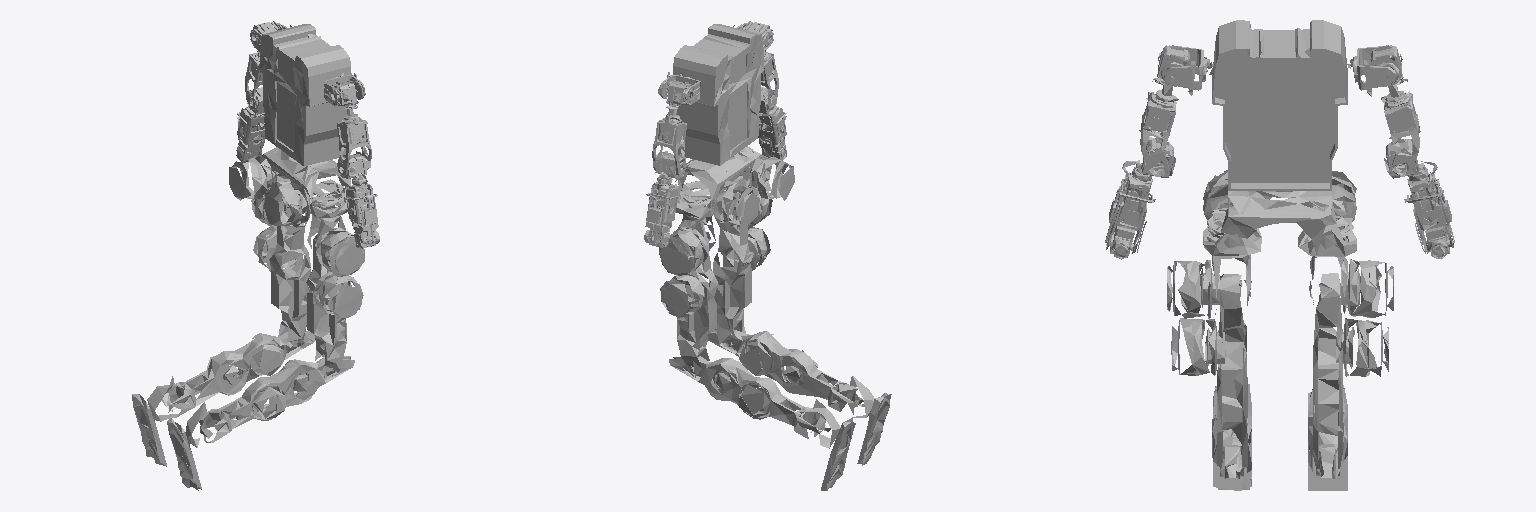
robot.urdf — urdf_a1:
<?xml version="1.0" encoding="utf-8"?>
<!-- This URDF was automatically created by SolidWorks to URDF Exporter! Originally created by [author] ([email redacted]) 
     Commit Version: 1.6.0-1-g15f4949  Build Version: 1.6.7594.29634
     For more information, please see http://wiki.ros.org/sw_urdf_exporter -->
<robot
  name="urdf_a1">
    <link name="world"/>
  <link
    name="base_link">
    <inertial>
      <origin
        xyz="-0.039135 -0.0051259 -0.066441"
        rpy="0 0 0" />
      <mass
        value="20.691" />
      <inertia
        ixx="0.61084776"
        ixy="0.00224110"
        ixz="-0.08596648"
        iyy="0.52661875"
        iyz="0.0088812"
        izz="0.20287544" />
    </inertial>
    <visual>
      <origin
        xyz="0 0 0"
        rpy="0 0 0" />
      <geometry>
        <mesh
          filename="package://urdf_a1/meshes/base_link.STL" />
      </geometry>
      <material
        name="">
        <color
          rgba="0.75294 0.75294 0.75294 1" />
      </material>
    </visual>
    <collision>
      <origin
        xyz="0 0 0"
        rpy="0 0 0" />
      <geometry>
        <mesh
          filename="package://urdf_a1/meshes/base_link.STL" />
      </geometry>
    </collision>
  </link>
  <joint name="floating_joint" type="floating"> <!--添加虚拟关节，将机器人模型连接到世界上的固定点-->
    <parent link="world"/>
    <child link="base_link"/> <!--起始位置设为(0, 0, 0)，与父链接原点重合-->
    <origin xyz="0 0 0" rpy="0 0 0"/>
  </joint>
  
  <link
    name="left_hip_roll_link">
    <inertial>
      <origin
        xyz="0.12259 0.00049277 -0.012041"
        rpy="0 0 0" />
      <mass
        value="1.4399" />
      <inertia
        ixx="0.00202590"
        ixy="0.00001235"
        ixz="-0.00002104"
        iyy="0.00254102"
        iyz="0.00002435"
        izz="0.00312971" />
    </inertial>
    <visual>
      <origin
        xyz="0 0 0"
        rpy="0 0 0" />
      <geometry>
        <mesh
          filename="package://urdf_a1/meshes/left_hip_roll_link.STL" />
      </geometry>
      <material
        name="">
        <color
          rgba="0.75294 0.75294 0.75294 1" />
      </material>
    </visual>
    <collision>
      <origin
        xyz="0 0 0"
        rpy="0 0 0" />
      <geometry>
        <mesh
          filename="package://urdf_a1/meshes/left_hip_roll_link.STL" />
      </geometry>
    </collision>
  </link>
  <joint
    name="left_hip_roll_joint"
    type="revolute">
    <origin
      xyz="-0.122 0.1 -0.26527"
      rpy="0 0 0" />
    <parent
      link="base_link" />
    <child
      link="left_hip_roll_link" />
    <axis
      xyz="1 0 0" />
    <limit
      lower="-0.61056"
      upper="0.785"
      effort="300"
      velocity="10" />
  </joint>
  <link
    name="left_hip_yaw_link">
    <inertial>
      <origin
        xyz="-4.4698E-05 0.061396 -0.12935"
        rpy="0 0 0" />
      <mass
        value="2.9112" />
      <inertia
        ixx="0.00902678"
        ixy="-0.00000136"
        ixz="0.00001757"
        iyy="0.00756575"
        iyz="0.00109483"
        izz="0.00777749" />
    </inertial>
    <visual>
      <origin
        xyz="0 0 0"
        rpy="0 0 0" />
      <geometry>
        <mesh
          filename="package://urdf_a1/meshes/left_hip_yaw_link.STL" />
      </geometry>
      <material
        name="">
        <color
          rgba="0.75294 0.75294 0.75294 1" />
      </material>
    </visual>
    <collision>
      <origin
        xyz="0 0 0"
        rpy="0 0 0" />
      <geometry>
        <mesh
          filename="package://urdf_a1/meshes/left_hip_yaw_link.STL" />
      </geometry>
    </collision>
  </link>
  <joint
    name="left_hip_yaw_joint"
    type="revolute">
    <origin
      xyz="0.122 0 -0.00675"
      rpy="0 0 0" />
    <parent
      link="left_hip_roll_link" />
    <child
      link="left_hip_yaw_link" />
    <axis
      xyz="0 0 1" />
    <limit
      lower="-0.785"
      upper="1.0467"
      effort="90"
      velocity="10" />
  </joint>
  <link
    name="left_hip_pitch_link">
    <inertial>
      <origin
        xyz="8.433E-05 0.031118 -0.1581"
        rpy="0 0 0" />
      <mass
        value="4.7973" />
      <inertia
        ixx="0.05241663"
        ixy="0.00001687"
        ixz="0.00107927"
        iyy="0.04861209"
        iyz="-0.00296791"
        izz="0.01248145" />
    </inertial>
    <visual>
      <origin
        xyz="0 0 0"
        rpy="0 0 0" />
      <geometry>
        <mesh
          filename="package://urdf_a1/meshes/left_hip_pitch_link.STL" />
      </geometry>
      <material
        name="">
        <color
          rgba="0.75294 0.75294 0.75294 1" />
      </material>
    </visual>
    <collision>
      <origin
        xyz="0 0 0"
        rpy="0 0 0" />
      <geometry>
        <mesh
          filename="package://urdf_a1/meshes/left_hip_pitch_link.STL" />
      </geometry>
    </collision>
  </link>
  <joint
    name="left_hip_pitch_joint"
    type="revolute">
    <origin
      xyz="0 0 -0.13575"
      rpy="0 0 0" />
    <parent
      link="left_hip_yaw_link" />
    <child
      link="left_hip_pitch_link" />
    <axis
      xyz="0 1 0" />
    <limit
      lower="-2.094"
      upper="0.52333"
      effort="300"
      velocity="100" />
  </joint>
  <link
    name="left_knee_pitch_link">
    <inertial>
      <origin
        xyz="0.00086403 0.00012643 -0.16602"
        rpy="0 0 0" />
      <mass
        value="3.9622" />
      <inertia
        ixx="0.05137765"
        ixy="-0.00000062"
        ixz="-0.00083103"
        iyy="0.05255862"
        iyz="0.00054085"
        izz="0.00498811" />
    </inertial>
    <visual>
      <origin
        xyz="0 0 0"
        rpy="0 0 0" />
      <geometry>
        <mesh
          filename="package://urdf_a1/meshes/left_knee_pitch_link.STL" />
      </geometry>
      <material
        name="">
        <color
          rgba="0.75294 0.75294 0.75294 1" />
      </material>
    </visual>
    <collision>
      <origin
        xyz="0 0 0"
        rpy="0 0 0" />
      <geometry>
        <mesh
          filename="package://urdf_a1/meshes/left_knee_pitch_link.STL" />
      </geometry>
    </collision>
  </link>
  <joint
    name="left_knee_pitch_joint"
    type="revolute">
    <origin
      xyz="0 0 -0.386"
      rpy="0 0 0" />
    <parent
      link="left_hip_pitch_link" />
    <child
      link="left_knee_pitch_link" />
    <axis
      xyz="0 1 0" />
    <limit
      lower="0.2618"
      upper="2.356"
      effort="300"
      velocity="10" />
  </joint>
  <link
    name="left_ankle_pitch_link">
    <inertial>
      <origin
        xyz="0.00091263 -0.00095459 3.983E-10"
        rpy="0 0 0" />
      <mass
        value="0.16073" />
      <inertia
        ixx="0.00005253"
        ixy="-0.00000014"
        ixz="0.00000000"
        iyy="0.00004925"
        iyz="0.00000000"
        izz="0.00008841" />
    </inertial>
    <visual>
      <origin
        xyz="0 0 0"
        rpy="0 0 0" />
      <geometry>
        <mesh
          filename="package://urdf_a1/meshes/left_ankle_pitch_link.STL" />
      </geometry>
      <material
        name="">
        <color
          rgba="1 1 1 1" />
      </material>
    </visual>
    <collision>
      <origin
        xyz="0 0 0"
        rpy="0 0 0" />
      <geometry>
        <mesh
          filename="package://urdf_a1/meshes/left_ankle_pitch_link.STL" />
      </geometry>
    </collision>
  </link>
  <joint
    name="left_ankle_pitch_joint"
    type="revolute">
    <origin
      xyz="0 0 -0.41"
      rpy="0 0 0" />
    <parent
      link="left_knee_pitch_link" />
    <child
      link="left_ankle_pitch_link" />
    <axis
      xyz="0 1 0" />
    <limit
      lower="-1.0472"
      upper="0.5236"
      effort="90"
      velocity="10" />
  </joint>
  <link
    name="left_ankle_roll_link">
    <inertial>
      <origin
        xyz="0.0097609 -2.3757E-05 -0.046799"
        rpy="0 0 0" />
      <mass
        value="1.275" />
      <inertia
        ixx="0.00195103"
        ixy="-0.00000085"
        ixz="0.00118378"
        iyy="0.00523776"
        iyz="-0.00000045"
        izz="0.00422250" />
    </inertial>
    <visual>
      <origin
        xyz="0 0 0"
        rpy="0 0 0" />
      <geometry>
        <mesh
          filename="package://urdf_a1/meshes/left_ankle_roll_link.STL" />
      </geometry>
      <material
        name="">
        <color
          rgba="0.75294 0.75294 0.75294 1" />
      </material>
    </visual>
    <collision>
      <origin
        xyz="0 0 0"
        rpy="0 0 0" />
      <geometry>
        <mesh
          filename="package://urdf_a1/meshes/left_ankle_roll_link.STL" />
      </geometry>
    </collision>
  </link>
  <joint
    name="left_ankle_roll_joint"
    type="revolute">
    <origin
      xyz="0 0 0"
      rpy="0 0 0" />
    <parent
      link="left_ankle_pitch_link" />
    <child
      link="left_ankle_roll_link" />
    <axis
      xyz="1 0 0" />
    <limit
      lower="-0.785"
      upper="0.61056"
      effort="90"
      velocity="10" />
  </joint>
  <link
    name="right_hip_roll_link">
    <inertial>
      <origin
        xyz="0.1226 -0.00049784 -0.012041"
        rpy="0 0 0" />
      <mass
        value="1.4399" />
      <inertia
        ixx="0.00202593"
        ixy="-0.00001236"
        ixz="-0.00002107"
        iyy=" 0.00254100"
        iyz="-0.00002421"
        izz="0.00312971" />
    </inertial>
    <visual>
      <origin
        xyz="0 0 0"
        rpy="0 0 0" />
      <geometry>
        <mesh
          filename="package://urdf_a1/meshes/right_hip_roll_link.STL" />
      </geometry>
      <material
        name="">
        <color
          rgba="0.75294 0.75294 0.75294 1" />
      </material>
    </visual>
    <collision>
      <origin
        xyz="0 0 0"
        rpy="0 0 0" />
      <geometry>
        <mesh
          filename="package://urdf_a1/meshes/right_hip_roll_link.STL" />
      </geometry>
    </collision>
  </link>
  <joint
    name="right_hip_roll_joint"
    type="revolute">
    <origin
      xyz="-0.122 -0.1 -0.26527"
      rpy="0 0 0" />
    <parent
      link="base_link" />
    <child
      link="right_hip_roll_link" />
    <axis
      xyz="1 0 0" />
    <limit
      lower="-0.785"
      upper="0.61056"
      effort="300"
      velocity="10" />
  </joint>
  <link
    name="right_hip_yaw_link">
    <inertial>
      <origin
        xyz="-5.2742E-05 -0.061388 -0.12935"
        rpy="0 0 0" />
      <mass
        value="2.9118" />
      <inertia
        ixx="0.00902790"
        ixy="0.00000293"
        ixz="0.00001712"
        iyy="0.00756731"
        iyz="-0.00109395"
        izz="0.00777988" />
    </inertial>
    <visual>
      <origin
        xyz="0 0 0"
        rpy="0 0 0" />
      <geometry>
        <mesh
          filename="package://urdf_a1/meshes/right_hip_yaw_link.STL" />
      </geometry>
      <material
        name="">
        <color
          rgba="0.75294 0.75294 0.75294 1" />
      </material>
    </visual>
    <collision>
      <origin
        xyz="0 0 0"
        rpy="0 0 0" />
      <geometry>
        <mesh
          filename="package://urdf_a1/meshes/right_hip_yaw_link.STL" />
      </geometry>
    </collision>
  </link>
  <joint
    name="right_hip_yaw_joint"
    type="revolute">
    <origin
      xyz="0.122 0 -0.00675"
      rpy="0 0 0" />
    <parent
      link="right_hip_roll_link" />
    <child
      link="right_hip_yaw_link" />
    <axis
      xyz="0 0 1" />
    <limit
      lower="-1.0467"
      upper="0.785"
      effort="90"
      velocity="10" />
  </joint>
  <link
    name="right_hip_pitch_link">
    <inertial>
      <origin
        xyz="8.5444E-05 -0.031118 -0.1581"
        rpy="0 0 0" />
      <mass
        value="4.7973" />
      <inertia
        ixx="0.05241696"
        ixy="-0.00001637"
        ixz="0.00107917"
        iyy="0.04861240"
        iyz="0.00296855"
        izz="0.01248142" />
    </inertial>
    <visual>
      <origin
        xyz="0 0 0"
        rpy="0 0 0" />
      <geometry>
        <mesh
          filename="package://urdf_a1/meshes/right_hip_pitch_link.STL" />
      </geometry>
      <material
        name="">
        <color
          rgba="0.75294 0.75294 0.75294 1" />
      </material>
    </visual>
    <collision>
      <origin
        xyz="0 0 0"
        rpy="0 0 0" />
      <geometry>
        <mesh
          filename="package://urdf_a1/meshes/right_hip_pitch_link.STL" />
      </geometry>
    </collision>
  </link>
  <joint
    name="right_hip_pitch_joint"
    type="revolute">
    <origin
      xyz="0 0 -0.13575"
      rpy="0 0 0" />
    <parent
      link="right_hip_yaw_link" />
    <child
      link="right_hip_pitch_link" />
    <axis
      xyz="0 1 0" />
    <limit
      lower="-2.094"
      upper="0.52333"
      effort="300"
      velocity="10" />
  </joint>
  <link
    name="right_knee_pitch_link">
    <inertial>
      <origin
        xyz="0.00086403 -0.00012643 -0.16602"
        rpy="0 0 0" />
      <mass
        value="3.9622" />
      <inertia
        ixx="0.05137777"
        ixy="0.00000062"
        ixz="-0.00083103"
        iyy="0.05255874"
        iyz="-0.00054085"
        izz="0.00498812" />
    </inertial>
    <visual>
      <origin
        xyz="0 0 0"
        rpy="0 0 0" />
      <geometry>
        <mesh
          filename="package://urdf_a1/meshes/right_knee_pitch_link.STL" />
      </geometry>
      <material
        name="">
        <color
          rgba="0.75294 0.75294 0.75294 1" />
      </material>
    </visual>
    <collision>
      <origin
        xyz="0 0 0"
        rpy="0 0 0" />
      <geometry>
        <mesh
          filename="package://urdf_a1/meshes/right_knee_pitch_link.STL" />
      </geometry>
    </collision>
  </link>
  <joint
    name="right_knee_pitch_joint"
    type="revolute">
    <origin
      xyz="0 0 -0.386"
      rpy="0 0 0" />
    <parent
      link="right_hip_pitch_link" />
    <child
      link="right_knee_pitch_link" />
    <axis
      xyz="0 1 0" />
    <limit
      lower="0.2618"
      upper="2.356"
      effort="300"
      velocity="10" />
  </joint>
  <link
    name="right_ankle_pitch_link">
    <inertial>
      <origin
        xyz="0.00091266 0.00095458 7.8797E-10"
        rpy="0 0 0" />
      <mass
        value="0.16073" />
      <inertia
        ixx="0.00005253"
        ixy="0.00000014"
        ixz="0.00000000"
        iyy="0.00004925"
        iyz="0.00000000"
        izz="0.00008841" />
    </inertial>
    <visual>
      <origin
        xyz="0 0 0"
        rpy="0 0 0" />
      <geometry>
        <mesh
          filename="package://urdf_a1/meshes/right_ankle_pitch_link.STL" />
      </geometry>
      <material
        name="">
        <color
          rgba="0.68627 0.65882 0.63922 1" />
      </material>
    </visual>
    <collision>
      <origin
        xyz="0 0 0"
        rpy="0 0 0" />
      <geometry>
        <mesh
          filename="package://urdf_a1/meshes/right_ankle_pitch_link.STL" />
      </geometry>
    </collision>
  </link>
  <joint
    name="right_ankle_pitch_joint"
    type="revolute">
    <origin
      xyz="0 0 -0.41"
      rpy="0 0 0" />
    <parent
      link="right_knee_pitch_link" />
    <child
      link="right_ankle_pitch_link" />
    <axis
      xyz="0 1 0" />
    <limit
      lower="-1.0472"
      upper="0.5236"
      effort="90"
      velocity="10" />
  </joint>
  <link
    name="right_ankle_roll_link">
    <inertial>
      <origin
        xyz="0.0097608 2.3941E-05 -0.046799"
        rpy="0 0 0" />
      <mass
        value="1.275" />
      <inertia
        ixx="0.00195102"
        ixy="0.00000084"
        ixz="0.00118378"
        iyy="0.00523777"
        iyz="0.00000045"
        izz="0.00422250" />
    </inertial>
    <visual>
      <origin
        xyz="0 0 0"
        rpy="0 0 0" />
      <geometry>
        <mesh
          filename="package://urdf_a1/meshes/right_ankle_roll_link.STL" />
      </geometry>
      <material
        name="">
        <color
          rgba="0.75294 0.75294 0.75294 1" />
      </material>
    </visual>
    <collision>
      <origin
        xyz="0 0 0"
        rpy="0 0 0" />
      <geometry>
        <mesh
          filename="package://urdf_a1/meshes/right_ankle_roll_link.STL" />
      </geometry>
    </collision>
  </link>
  <joint
    name="right_ankle_roll_joint"
    type="revolute">
    <origin
      xyz="0 0 0"
      rpy="0 0 0" />
    <parent
      link="right_ankle_pitch_link" />
    <child
      link="right_ankle_roll_link" />
    <axis
      xyz="1 0 0" />
    <limit
      lower="-0.785"
      upper="0.61056"
      effort="90"
      velocity="10" />
  </joint>
  <link
    name="left_arm_link">
    <inertial>
      <origin
        xyz="0.0011686 0.092788 -0.17962"
        rpy="0 0 0" />
      <mass
        value="3.3007" />
      <inertia
        ixx="0.06688508"
        ixy="0.00008981"
        ixz="-0.00016756"
        iyy="0.06412202"
        iyz="0.01226666"
        izz="0.00528484" />
    </inertial>
    <visual>
      <origin
        xyz="0 0 0"
        rpy="0 0 0" />
      <geometry>
        <mesh
          filename="package://urdf_a1/meshes/left_arm_link.STL" />
      </geometry>
      <material
        name="">
        <color
          rgba="0.75294 0.75294 0.75294 1" />
      </material>
    </visual>
    <collision>
      <origin
        xyz="0 0 0"
        rpy="0 0 0" />
      <geometry>
        <mesh
          filename="package://urdf_a1/meshes/left_arm_link.STL" />
      </geometry>
    </collision>
  </link>
  <joint
    name="left_arm_joint"
    type="continuous">
    <origin
      xyz="0 0.15382 0.096957"
      rpy="0.087266 0 0" />
    <parent
      link="base_link" />
    <child
      link="left_arm_link" />
    <axis
      xyz="0 1 0" />
  </joint>
  <link
    name="right_arm_link">
    <inertial>
      <origin
        xyz="0.0011686 -0.092787 -0.17962"
        rpy="0 0 0" />
      <mass
        value="3.3007" />
      <inertia
        ixx="0.06688517"
        ixy="-0.00008979"
        ixz="-0.00016757"
        iyy="0.06412209"
        iyz="-0.01226666"
        izz="0.00528488" />
    </inertial>
    <visual>
      <origin
        xyz="0 0 0"
        rpy="0 0 0" />
      <geometry>
        <mesh
          filename="package://urdf_a1/meshes/right_arm_link.STL" />
      </geometry>
      <material
        name="">
        <color
          rgba="0.75294 0.75294 0.75294 1" />
      </material>
    </visual>
    <collision>
      <origin
        xyz="0 0 0"
        rpy="0 0 0" />
      <geometry>
        <mesh
          filename="package://urdf_a1/meshes/right_arm_link.STL" />
      </geometry>
    </collision>
  </link>
  <joint
    name="right_arm_joint"
    type="continuous">
    <origin
      xyz="0 -0.15382 0.096957"
      rpy="-0.087266 0 0" />
    <parent
      link="base_link" />
    <child
      link="right_arm_link" />
    <axis
      xyz="0 1 0" />
  </joint>
</robot>

--- Facts derived from the render (not from the file) ---
The picture shows the robot from 3 angles, left to right: view 1: azimuth 30°, elevation 25°; view 2: azimuth 150°, elevation 25°; view 3: azimuth 270°, elevation 25°; orthographic projection.
Robot: urdf_a1 — 16 links, 15 joints (12 revolute, 2 continuous, 1 floating); root link world; default pose: joints at zero except 2 at the middle of their limits (left_knee_pitch_joint = 1.31, right_knee_pitch_joint = 1.31).
Visible links, largest first — view 1: base_link, right_arm_link, left_knee_pitch_link, right_knee_pitch_link, left_hip_pitch_link, right_hip_pitch_link, left_arm_link, right_hip_yaw_link, left_ankle_roll_link, right_ankle_roll_link, right_hip_roll_link; view 2: base_link, left_arm_link, right_knee_pitch_link, left_knee_pitch_link, right_hip_pitch_link, left_hip_pitch_link, right_arm_link, left_hip_yaw_link, left_ankle_roll_link, right_ankle_roll_link, left_hip_roll_link; view 3: base_link, right_arm_link, left_arm_link, right_hip_pitch_link, left_hip_pitch_link, right_hip_yaw_link, left_hip_yaw_link, right_hip_roll_link, left_hip_roll_link, left_knee_pitch_link, right_knee_pitch_link, left_ankle_roll_link (+1 smaller).
Boxes of the visible links, x1,y1,x2,y2 form: base_link: (229, 24, 351, 225); right_arm_link: (324, 73, 379, 248); left_knee_pitch_link: (167, 331, 315, 417); right_knee_pitch_link: (199, 356, 354, 442); left_hip_pitch_link: (253, 206, 310, 345); right_hip_pitch_link: (306, 234, 363, 377); left_arm_link: (236, 21, 291, 161); right_hip_yaw_link: (307, 215, 364, 276); left_ankle_roll_link: (132, 376, 174, 466); right_ankle_roll_link: (167, 402, 206, 490); right_hip_roll_link: (306, 179, 348, 217); base_link: (673, 24, 794, 224); left_arm_link: (644, 72, 700, 247); right_knee_pitch_link: (708, 329, 864, 414); left_knee_pitch_link: (669, 356, 830, 438); right_hip_pitch_link: (713, 214, 770, 349); left_hip_pitch_link: (660, 232, 718, 377); right_arm_link: (733, 21, 786, 160); left_hip_yaw_link: (659, 214, 715, 275); left_ankle_roll_link: (813, 399, 855, 490); right_ankle_roll_link: (850, 376, 891, 465); left_hip_roll_link: (675, 181, 713, 217); base_link: (1203, 20, 1356, 254); right_arm_link: (1105, 45, 1213, 259); left_arm_link: (1347, 45, 1454, 258); right_hip_pitch_link: (1171, 274, 1251, 468); left_hip_pitch_link: (1309, 273, 1388, 468); right_hip_yaw_link: (1167, 255, 1250, 318); left_hip_yaw_link: (1310, 256, 1393, 317); right_hip_roll_link: (1203, 203, 1261, 255); left_hip_roll_link: (1298, 202, 1356, 256); left_knee_pitch_link: (1308, 410, 1347, 478); right_knee_pitch_link: (1212, 411, 1251, 478); left_ankle_roll_link: (1308, 385, 1347, 490).
Bounding box of the posed robot: 0.588 × 0.7303 × 1.25 m (x, y, z).
15 mesh visuals loaded from 15 distinct referenced files (15 binary STL).
